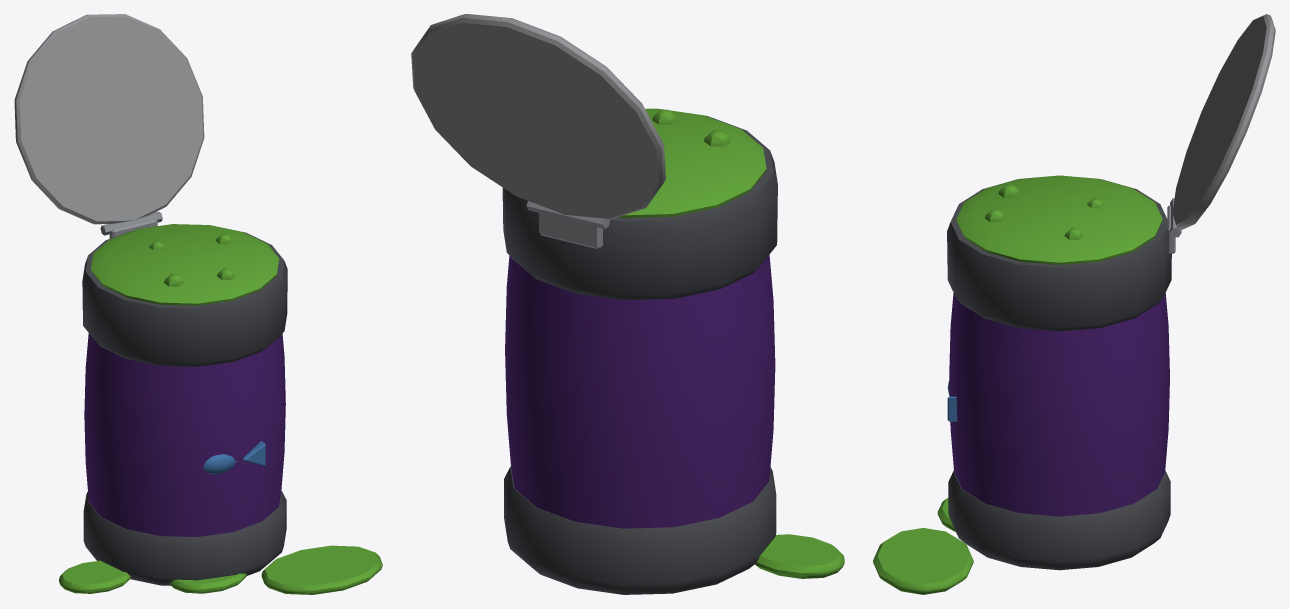
Rendered from gen_toxic_can_vertex.mobile-low.glb.
3 renders of one model, left to right at view 1: azimuth 30°, elevation 25°; view 2: azimuth 150°, elevation 25°; view 3: azimuth 270°, elevation 25°, orthographic. The views are drawn at different scales.
Visible parts, largest first — view 1: gen_toxic_can_vertex; view 2: gen_toxic_can_vertex; view 3: gen_toxic_can_vertex.
Boxes of the visible parts, <box> form: gen_toxic_can_vertex: <box>14,14,382,594</box>; gen_toxic_can_vertex: <box>411,14,844,594</box>; gen_toxic_can_vertex: <box>873,14,1275,594</box>.
Bounding box in the file's own units: 0.4658 × 0.7719 × 0.5615.
